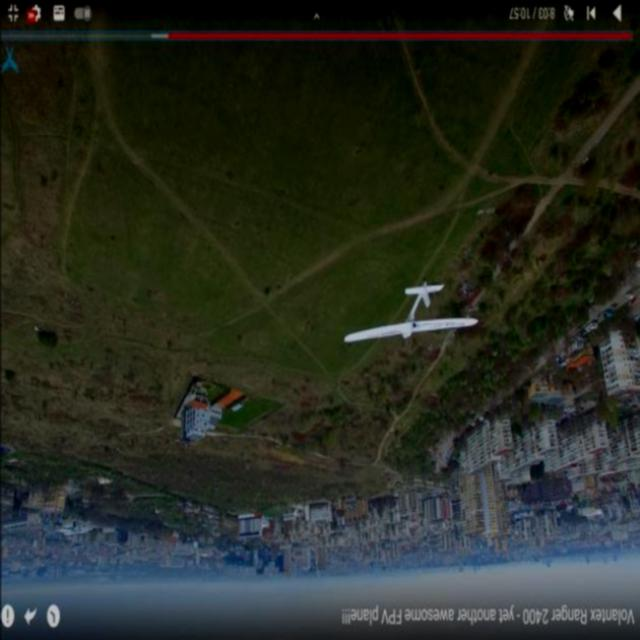plane: (340, 278, 478, 344)
